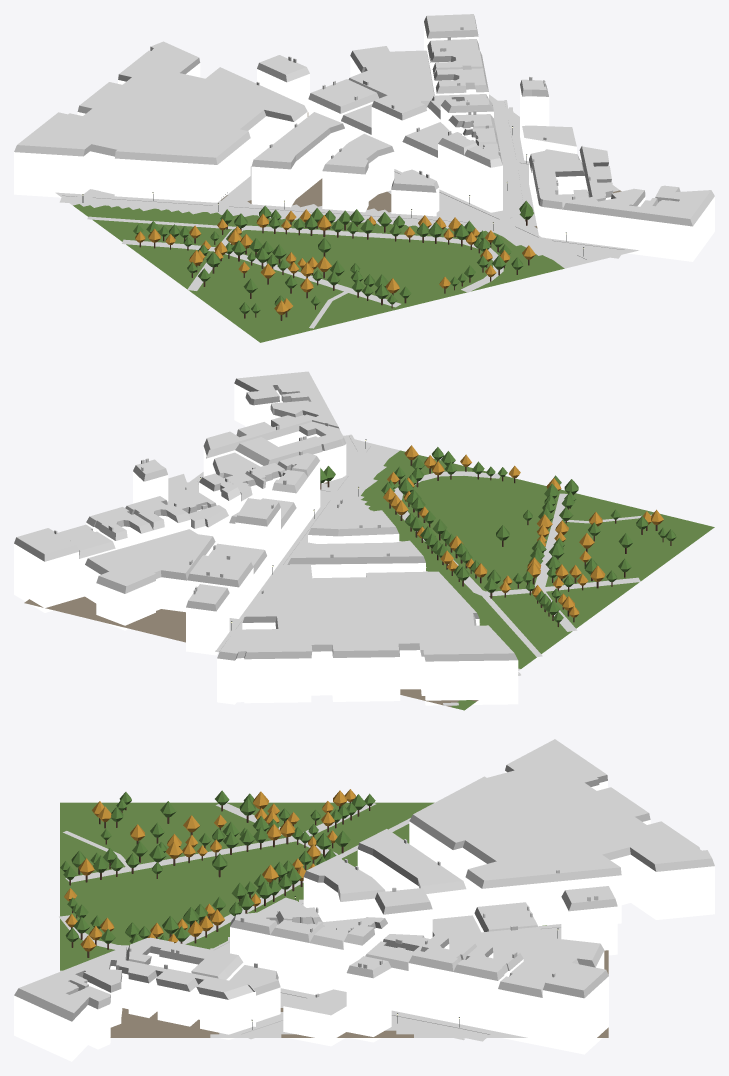
Rendered from zone_A6.glb.
3 renders of one model, top to bottom at view 1: azimuth 30°, elevation 25°; view 2: azimuth 150°, elevation 25°; view 3: azimuth 270°, elevation 25°, orthographic. The views are drawn at different scales.
Parts seen in each view (by area): view 1: zone_A6_batiments, zone_A6_terrain, zone_A6_decor_NOCOL, zone_A6_sol_NOCOL; view 2: zone_A6_batiments, zone_A6_terrain, zone_A6_decor_NOCOL, zone_A6_sol_NOCOL; view 3: zone_A6_batiments, zone_A6_terrain, zone_A6_decor_NOCOL, zone_A6_sol_NOCOL.
Part boxes in pixels (left/top/right/bottom): zone_A6_batiments: left=14, top=14, right=714, bottom=261; zone_A6_terrain: left=55, top=94, right=638, bottom=342; zone_A6_decor_NOCOL: left=82, top=126, right=584, bottom=320; zone_A6_sol_NOCOL: left=59, top=100, right=625, bottom=328; zone_A6_batiments: left=14, top=371, right=518, bottom=705; zone_A6_terrain: left=24, top=439, right=714, bottom=710; zone_A6_decor_NOCOL: left=200, top=439, right=676, bottom=630; zone_A6_sol_NOCOL: left=187, top=434, right=651, bottom=705; zone_A6_batiments: left=14, top=739, right=714, bottom=1061; zone_A6_terrain: left=60, top=802, right=608, bottom=1037; zone_A6_decor_NOCOL: left=60, top=789, right=558, bottom=1029; zone_A6_sol_NOCOL: left=59, top=803, right=561, bottom=1041.
Size of the model in its own units: 216 by 27.97 by 237.
